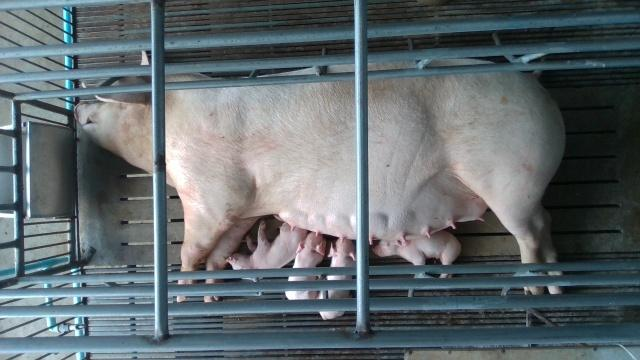piglet: (225, 217, 306, 281), (373, 228, 462, 281), (318, 237, 358, 322), (285, 231, 325, 302)
sow-sleep-lactate: (75, 49, 566, 303)
